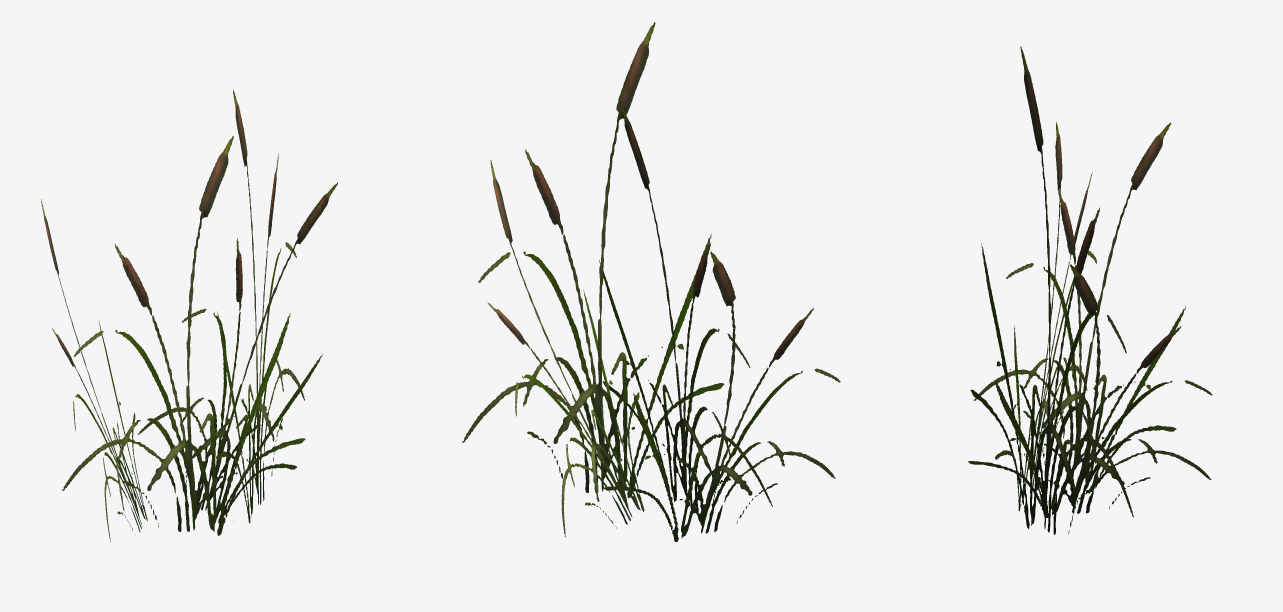
File: wm_灌木芦苇02.fbx
The picture shows the model from 3 angles, left to right: view 1: azimuth 30°, elevation 25°; view 2: azimuth 150°, elevation 25°; view 3: azimuth 270°, elevation 25°; orthographic projection. The views are drawn at different scales.
Parts seen in each view (by area): view 1: wm_灌木芦苇02; view 2: wm_灌木芦苇02; view 3: wm_灌木芦苇02.
Boxes of the visible parts, x1,y1,x2,y2 form: wm_灌木芦苇02: [41, 89, 337, 542]; wm_灌木芦苇02: [462, 22, 840, 541]; wm_灌木芦苇02: [968, 46, 1212, 534].
Size of the model in its own units: 153 by 184 by 115.
